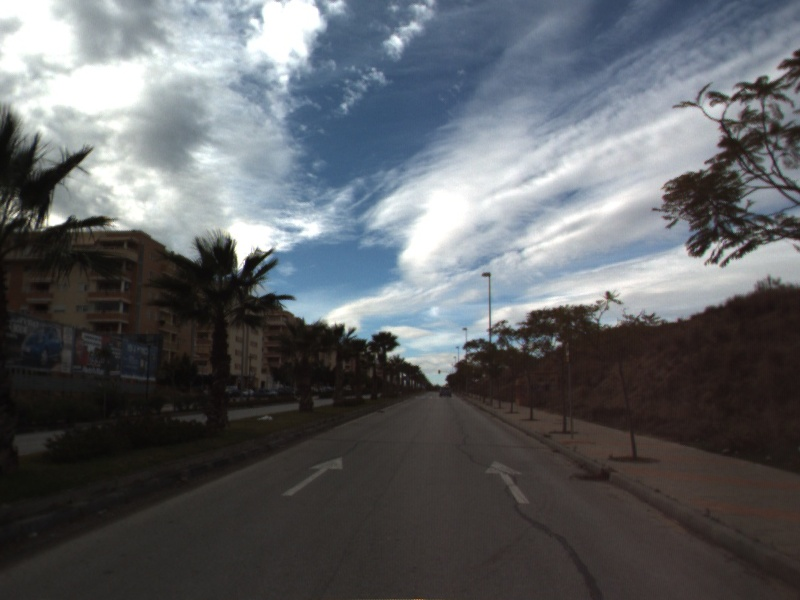STRAIGHT: (280, 454, 345, 498), (483, 458, 532, 506)
